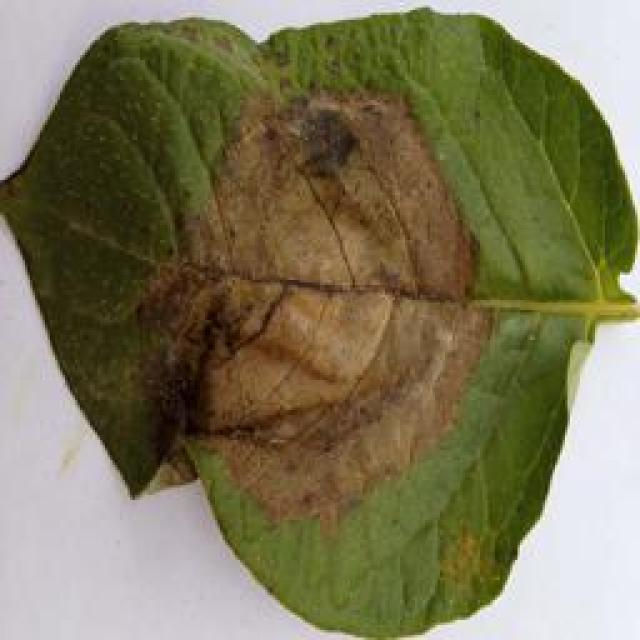Potato_Late_Blight: (7, 17, 630, 640)
